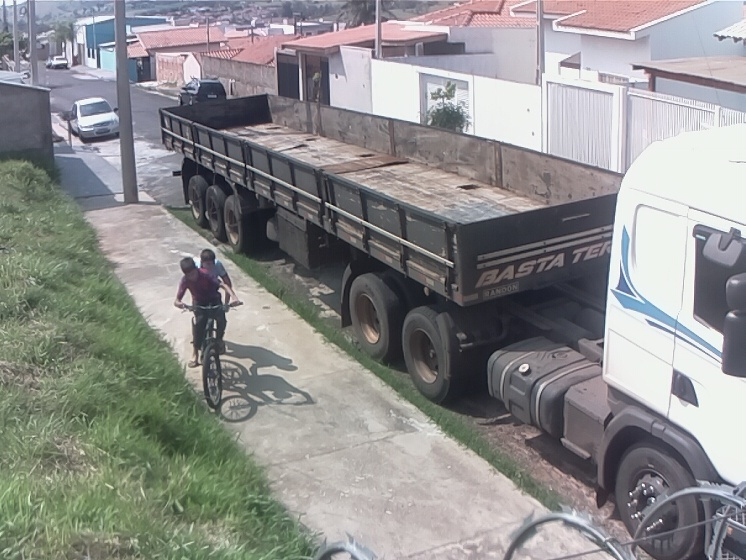person: (173, 254, 229, 367), (197, 247, 235, 352)
